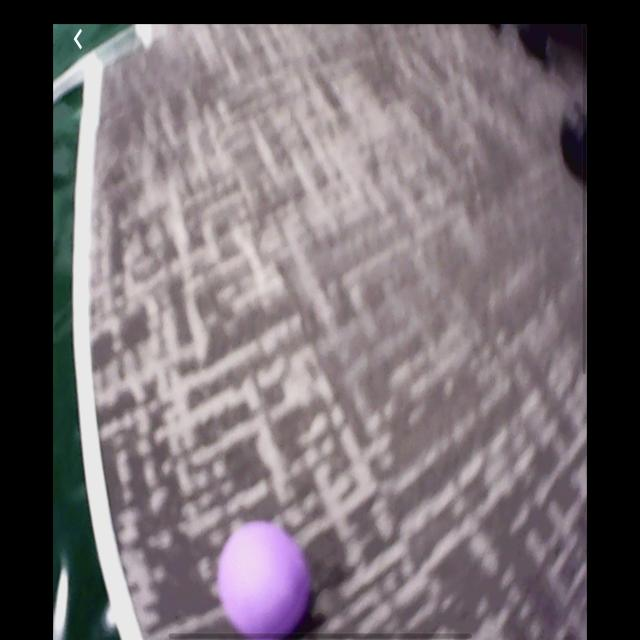ball: (217, 520, 313, 639)
